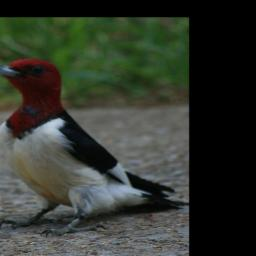Woodpecker: (0, 57, 189, 235)
